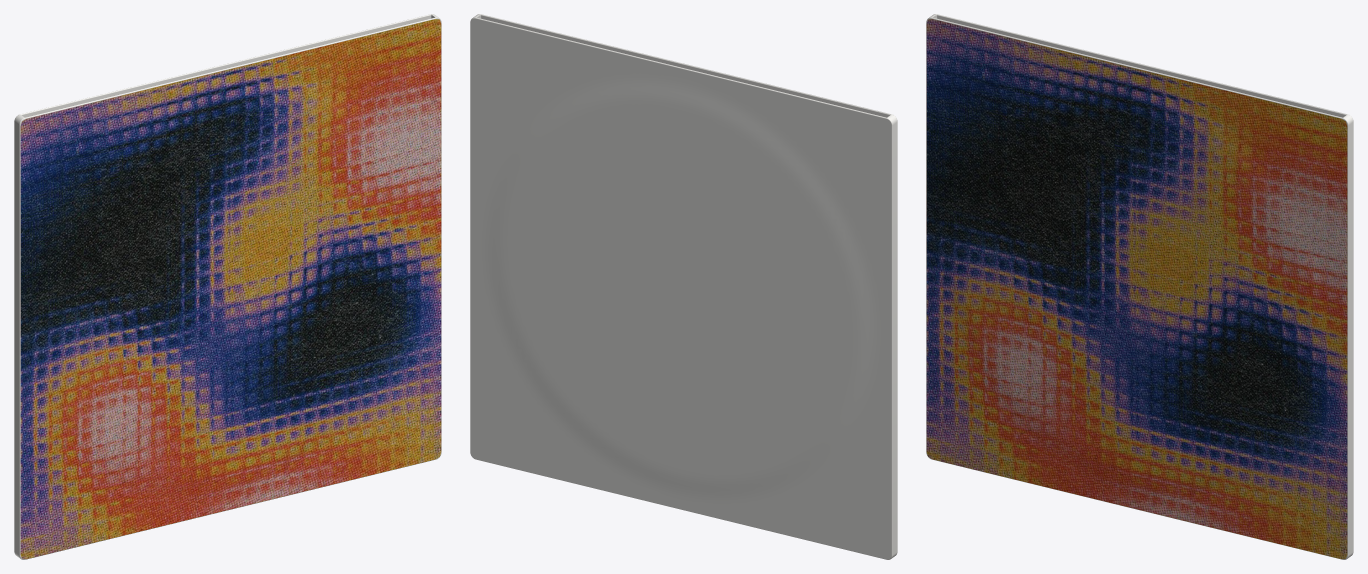
Rendered from album_sleeve.glb.
3 views of the same model, side by side, from view 1: azimuth 30°, elevation 25°; view 2: azimuth 150°, elevation 25°; view 3: azimuth 330°, elevation 25° (orthographic).
Visible parts, largest first — view 1: Cover, Sleeve; view 2: Back_Cover, Sleeve; view 3: Cover, Sleeve.
Boxes of the visible parts, x1,y1,x2,y2 form: Cover: (20, 19, 441, 559); Sleeve: (14, 14, 441, 559); Back_Cover: (470, 19, 891, 559); Sleeve: (470, 14, 897, 559); Cover: (926, 19, 1347, 559); Sleeve: (926, 14, 1353, 559).
Size of the model in its own units: 0.13 by 0.13 by 0.0036.
Materials: 6 (2 with a texture image).
